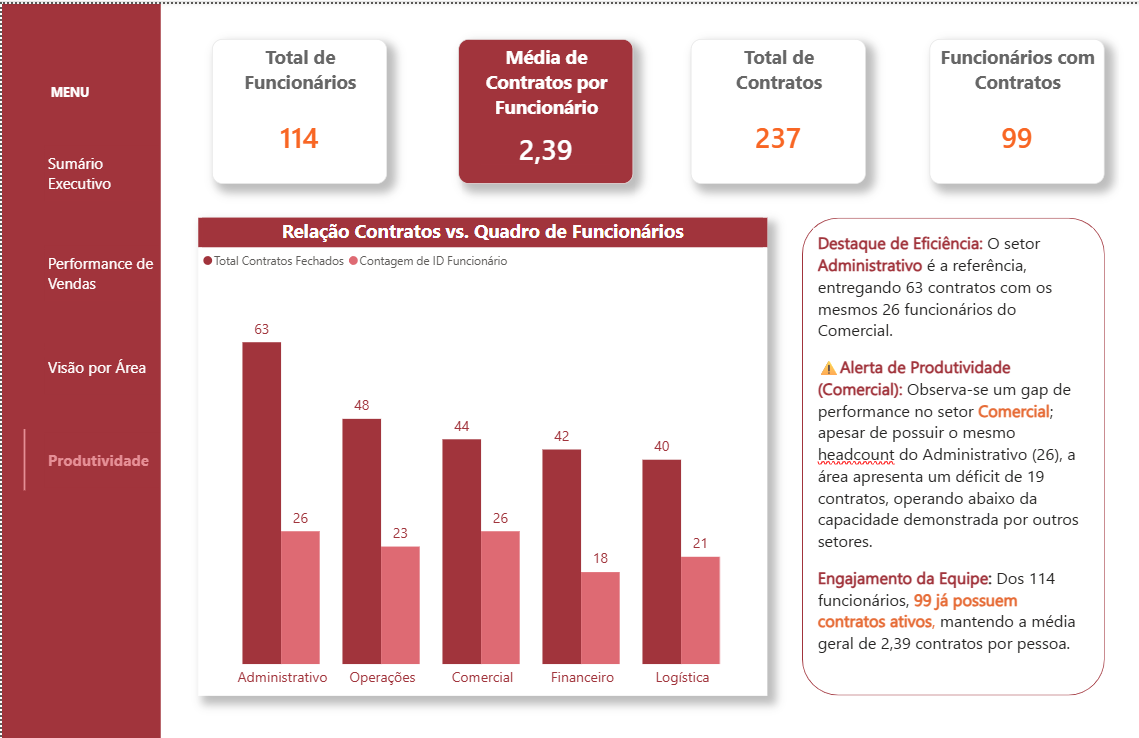

This screenshot's page, from the dashboard's own definition file:
{"tool":"powerbi","page":{"name":"Produtividade","canvas":[1300,850],"ordinal":3},"visuals":[{"type":"shape","box":[0,0,181.4,1000],"z":0},{"type":"clusteredColumnChart","title":"Relação Contratos vs. Quadro de Funcionários ","fields":{"Category":["CadastroFuncionarios.Area"],"Y":["_TodasMedidas.Total Contratos Fechados","CountNonNull(dCadastroFuncionarios.ID Funcionário)"]},"box":[224,244,650,546],"z":1000},{"type":"cardVisual","title":"Total de Contratos ","fields":{"Data":["_TodasMedidas.Total Contratos Fechados"]},"box":[787.1,40,200,165.7],"z":2000},{"type":"cardVisual","title":"Total de Funcionários","fields":{"Data":["CountNonNull(Ranking_top5_vendas.ID Funcionário)"]},"box":[240,40,200,165.7],"z":3000},{"type":"cardVisual","title":"Funcionários com Contratos ","fields":{"Data":["_TodasMedidas.Total Funcionários Ativos"]},"box":[1060,40,200,165.7],"z":4000},{"type":"cardVisual","title":"Média de Contratos por Funcionário  ","fields":{"Data":["_TodasMedidas.Taxa de Produtividade (Contratos de Funcionarios)"]},"box":[521.4,40,200,165.7],"z":5000},{"type":"shape","box":[914,244,346,546],"z":6000},{"type":"textbox","box":[927,256,320,518],"z":7000},{"type":"shape","box":[55.7,78.6,100,44.3],"z":8000},{"type":"actionButton","box":[48.6,161.4,131.4,62.9],"z":9000},{"type":"shape","box":[15.7,486.1,20,70],"z":10000},{"type":"actionButton","box":[48.6,275.7,131.4,62.9],"z":11000},{"type":"actionButton","box":[48.6,382.9,131.4,62.9],"z":12000},{"type":"actionButton","box":[48.6,490,131.4,62.9],"z":13000}]}

Visuals, with their boxes in screenshot pixels (x1, y1, x2, y2), scaled from the page's 1300x850 canvas onto the 1139x738 screenshot:
shape: left=0, top=0, right=159, bottom=737
"Relação Contratos vs. Quadro de Funcionários " clusteredColumnChart: left=196, top=212, right=766, bottom=686
"Total de Contratos " cardVisual: left=690, top=35, right=865, bottom=179
"Total de Funcionários" cardVisual: left=210, top=35, right=386, bottom=179
"Funcionários com Contratos " cardVisual: left=929, top=35, right=1104, bottom=179
"Média de Contratos por Funcionário  " cardVisual: left=457, top=35, right=632, bottom=179
shape: left=801, top=212, right=1104, bottom=686
textbox: left=812, top=222, right=1093, bottom=672
shape: left=49, top=68, right=136, bottom=107
actionButton: left=43, top=140, right=158, bottom=195
shape: left=14, top=422, right=31, bottom=483
actionButton: left=43, top=239, right=158, bottom=294
actionButton: left=43, top=332, right=158, bottom=387
actionButton: left=43, top=425, right=158, bottom=480
